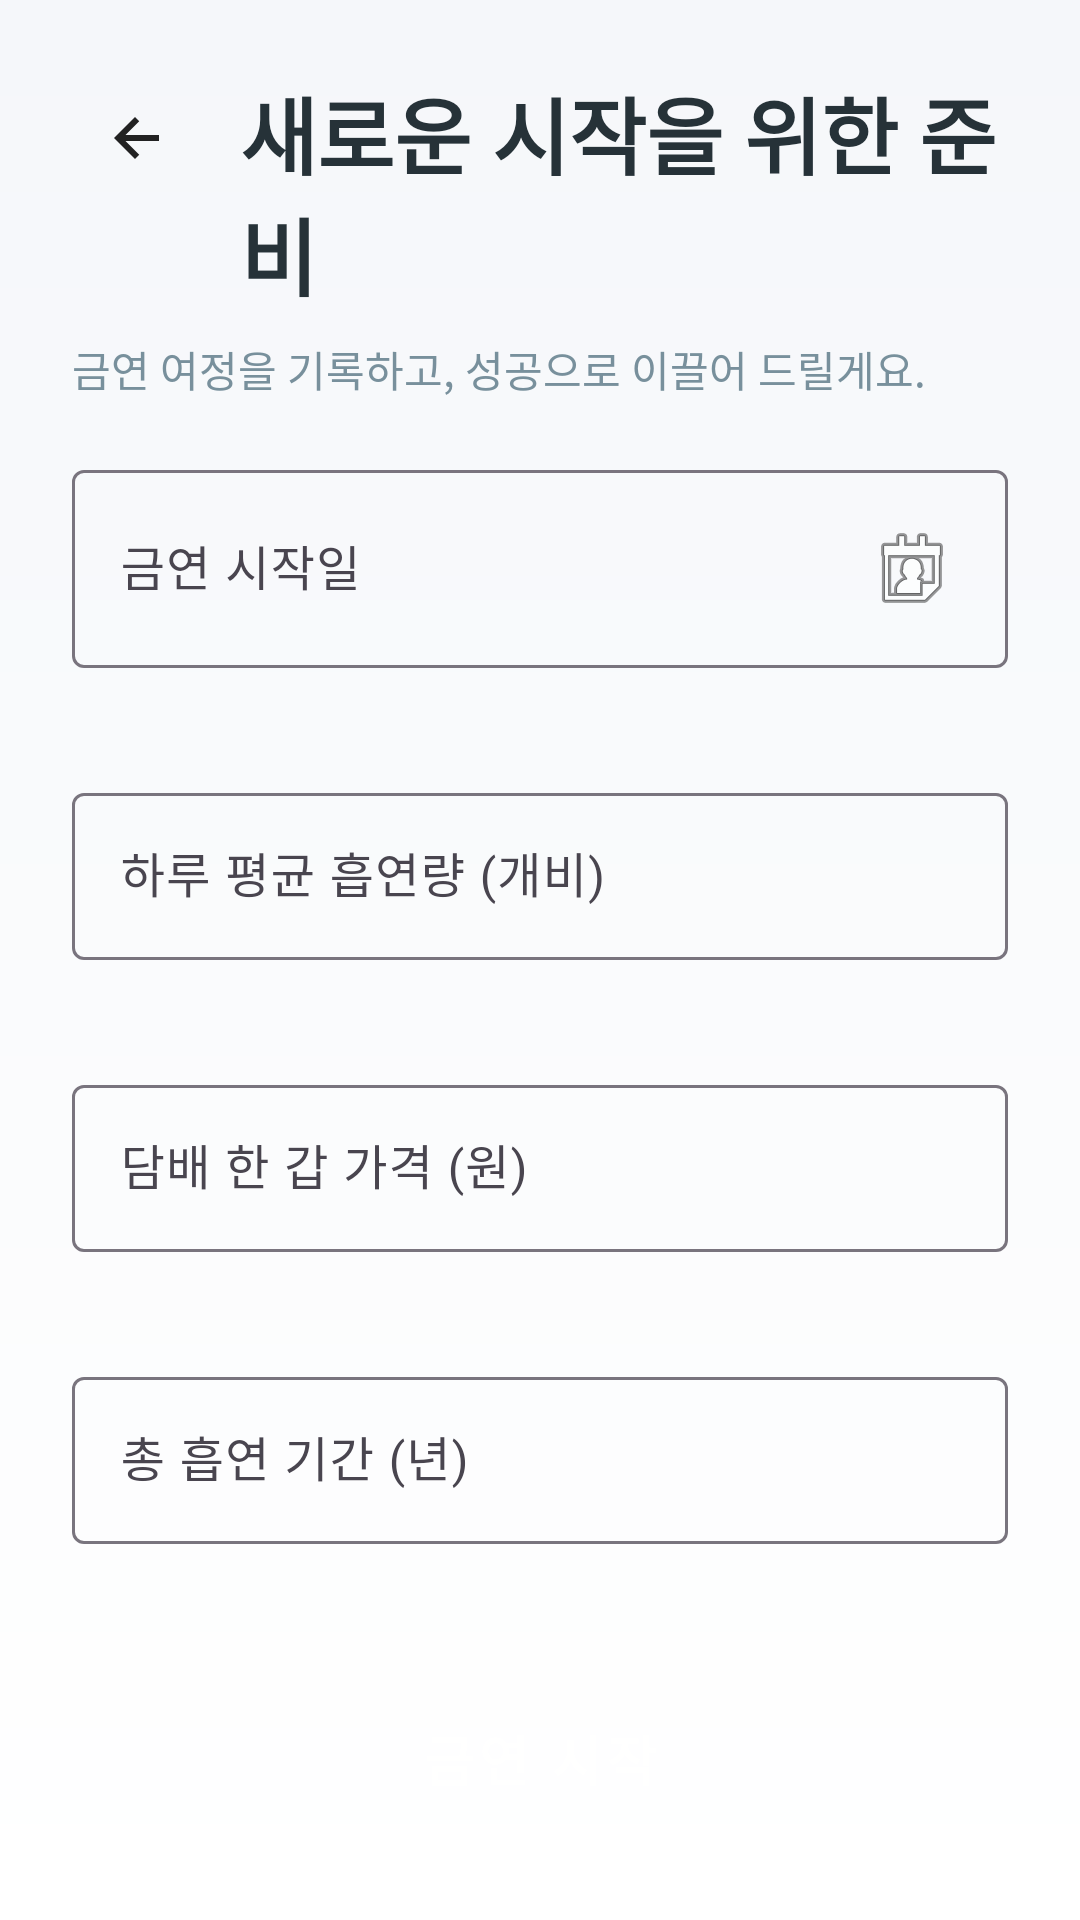

Icons on this 1080x1920 Android screen, each with its box as (x1, y1, x2, y2):
Back: (114, 117, 159, 159)
